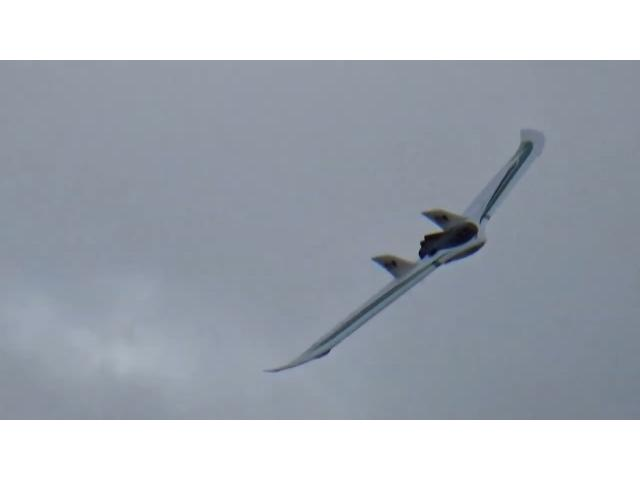Anti-Drone: (261, 127, 547, 375)
